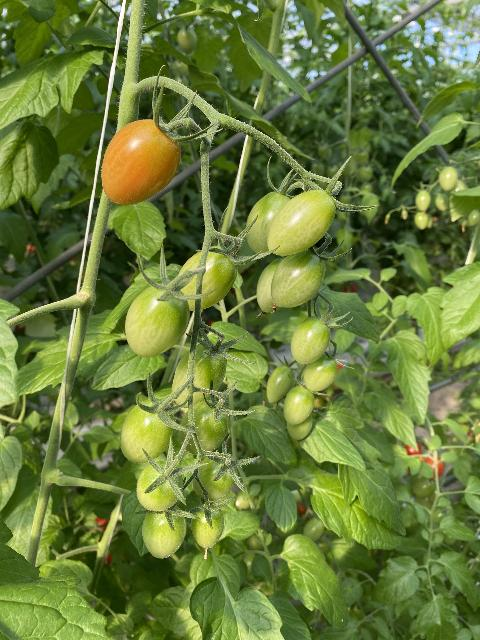l_green: (125, 283, 192, 357), (266, 189, 337, 255), (176, 246, 239, 311), (171, 341, 227, 409), (120, 398, 173, 465), (272, 248, 326, 308), (247, 191, 292, 256), (180, 398, 229, 457), (136, 461, 184, 513), (142, 505, 188, 559), (190, 452, 236, 501), (290, 316, 332, 365), (255, 258, 287, 313), (190, 500, 224, 548), (304, 353, 338, 392), (283, 385, 314, 425), (265, 366, 295, 403), (286, 414, 312, 440)
l_half_ripened: (100, 119, 183, 206)
